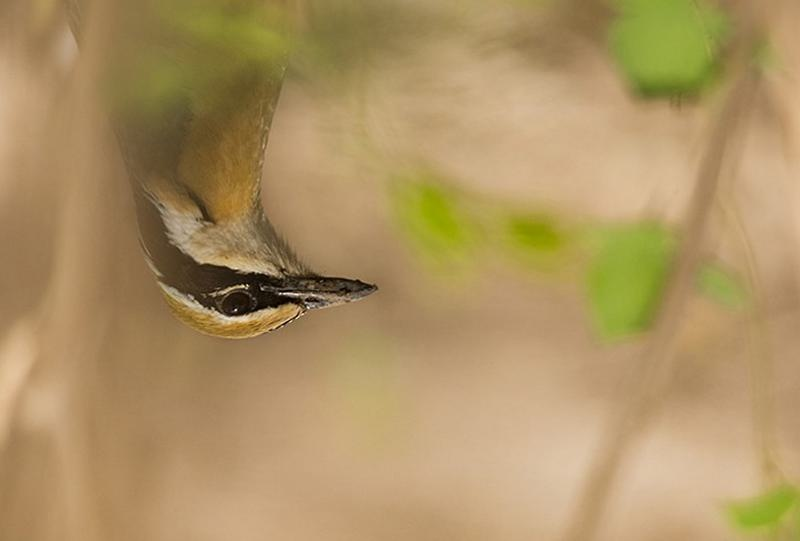pitta: (50, 1, 393, 343)
